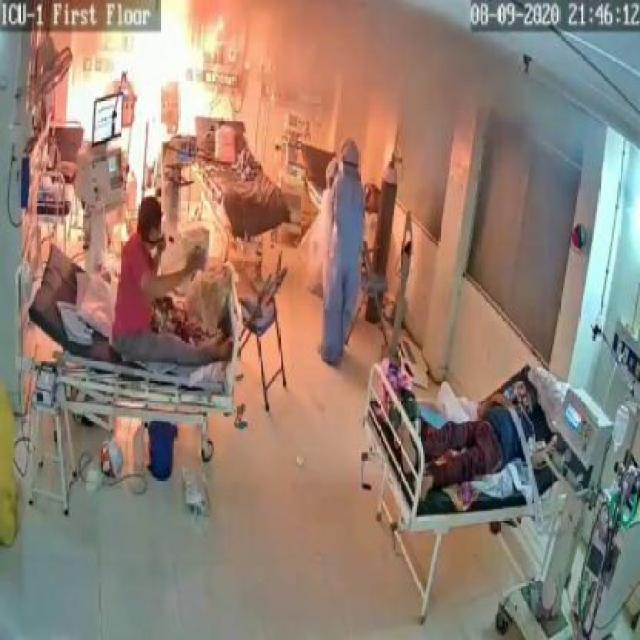fire: (95, 3, 232, 159)
smoke: (246, 0, 619, 174)
